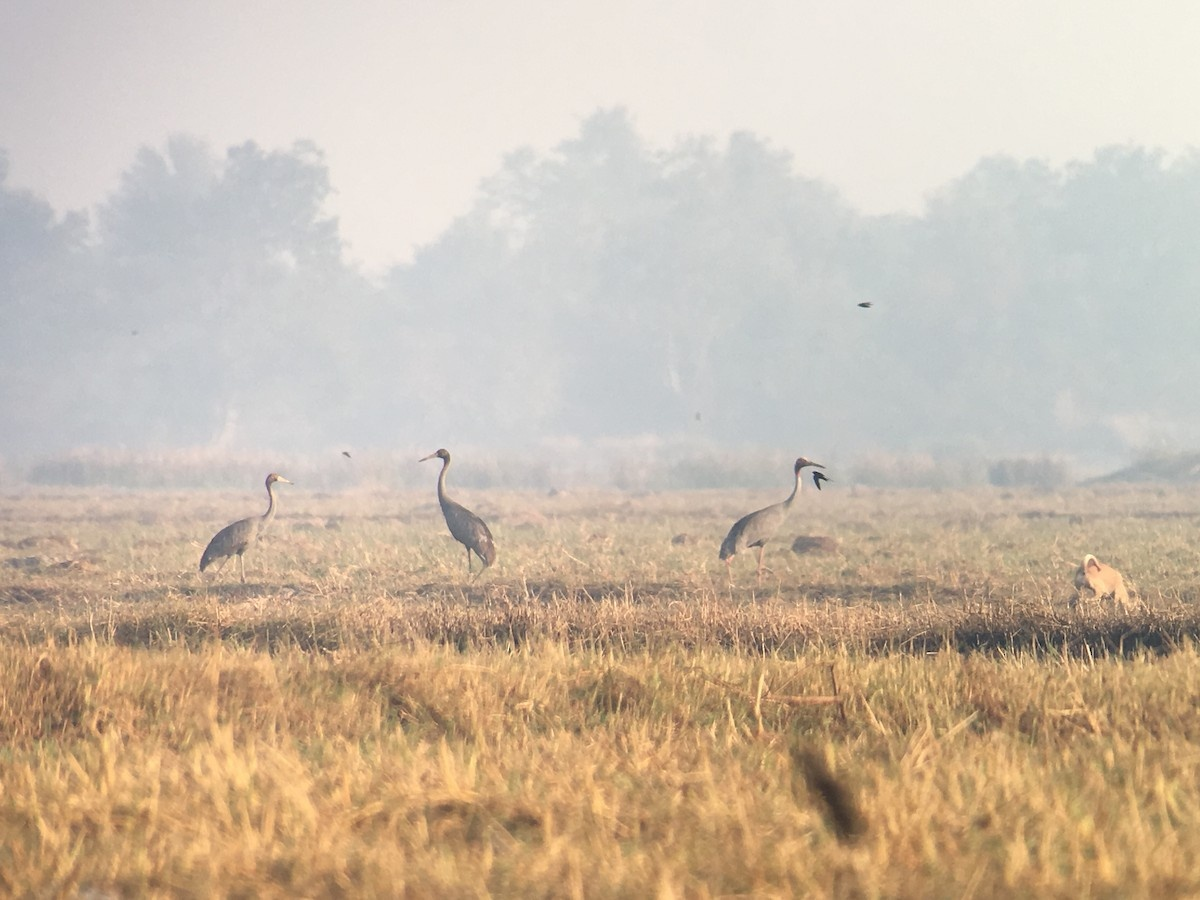crane: (710, 442, 832, 578), (414, 441, 512, 580), (188, 471, 301, 584)
